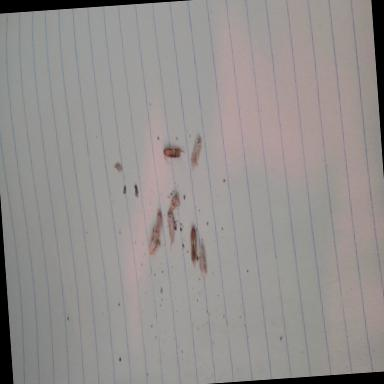pbw: (188, 135, 202, 169), (187, 226, 198, 268), (163, 146, 186, 166), (146, 225, 160, 255), (166, 193, 184, 215), (166, 212, 176, 250), (198, 244, 206, 276), (156, 210, 162, 234)
